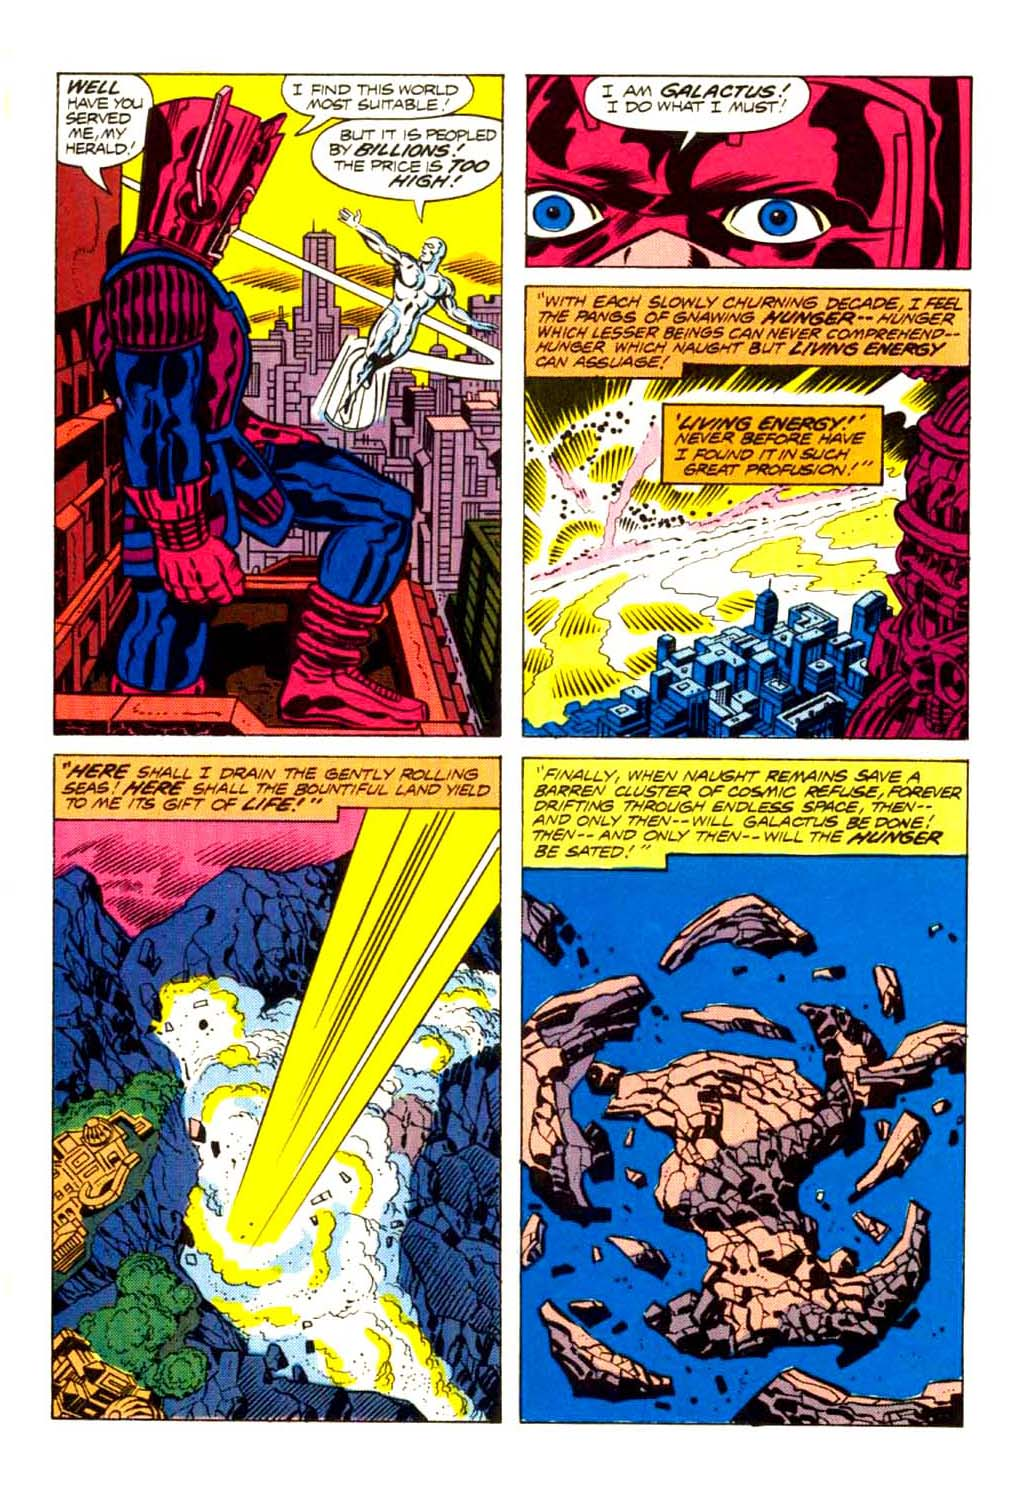Baloon: (527, 764, 962, 869), (522, 283, 971, 378), (57, 759, 504, 820), (662, 404, 883, 487), (311, 122, 504, 208), (581, 73, 806, 145), (57, 71, 150, 192), (285, 73, 474, 120)
Vignetta: (48, 71, 506, 741), (55, 754, 504, 1425), (520, 757, 965, 1429), (527, 287, 971, 736), (527, 73, 971, 269)
